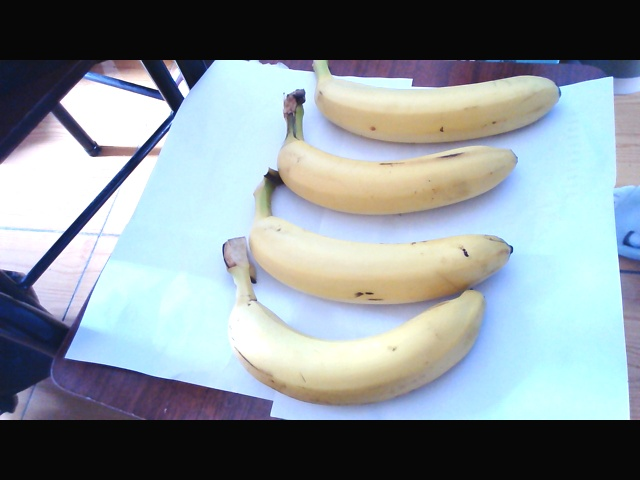banana: (199, 287, 507, 415), (238, 206, 521, 300), (253, 137, 522, 215), (299, 59, 556, 138)
